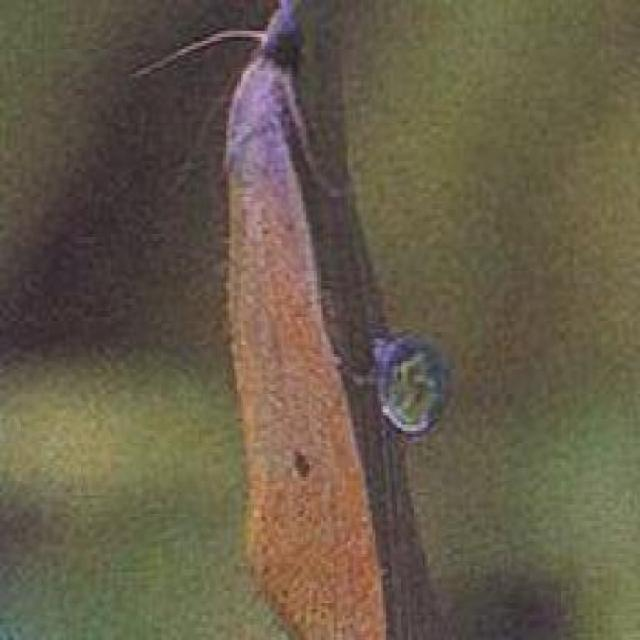stem-borer: (203, 0, 371, 640)
